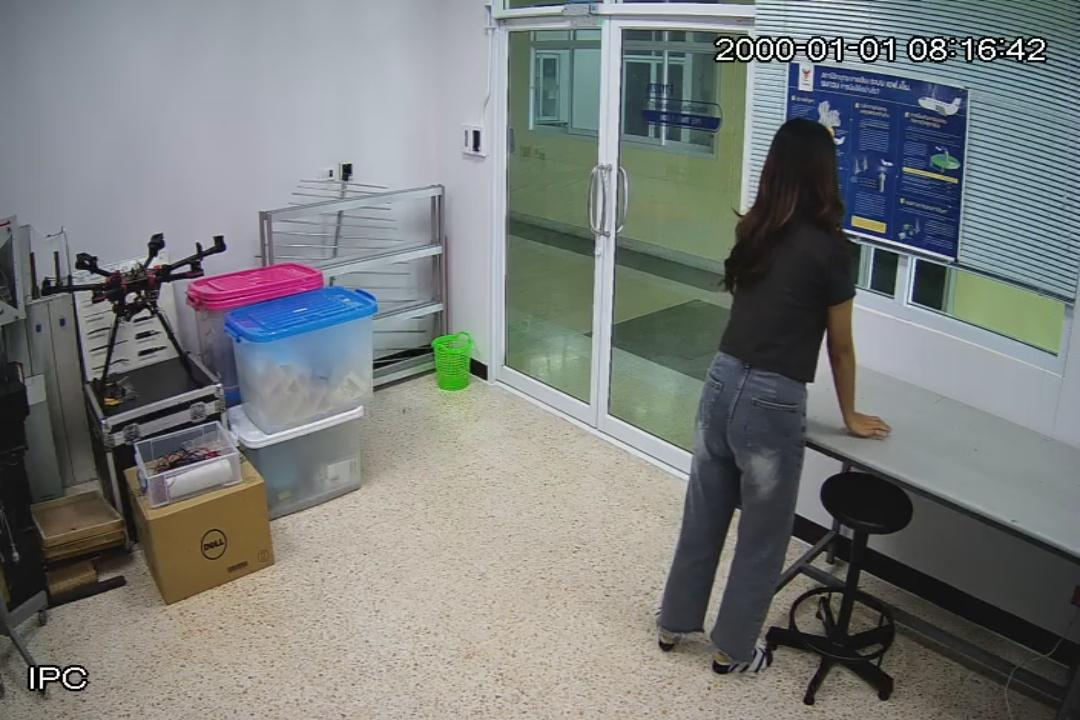normal: (651, 111, 888, 679)
